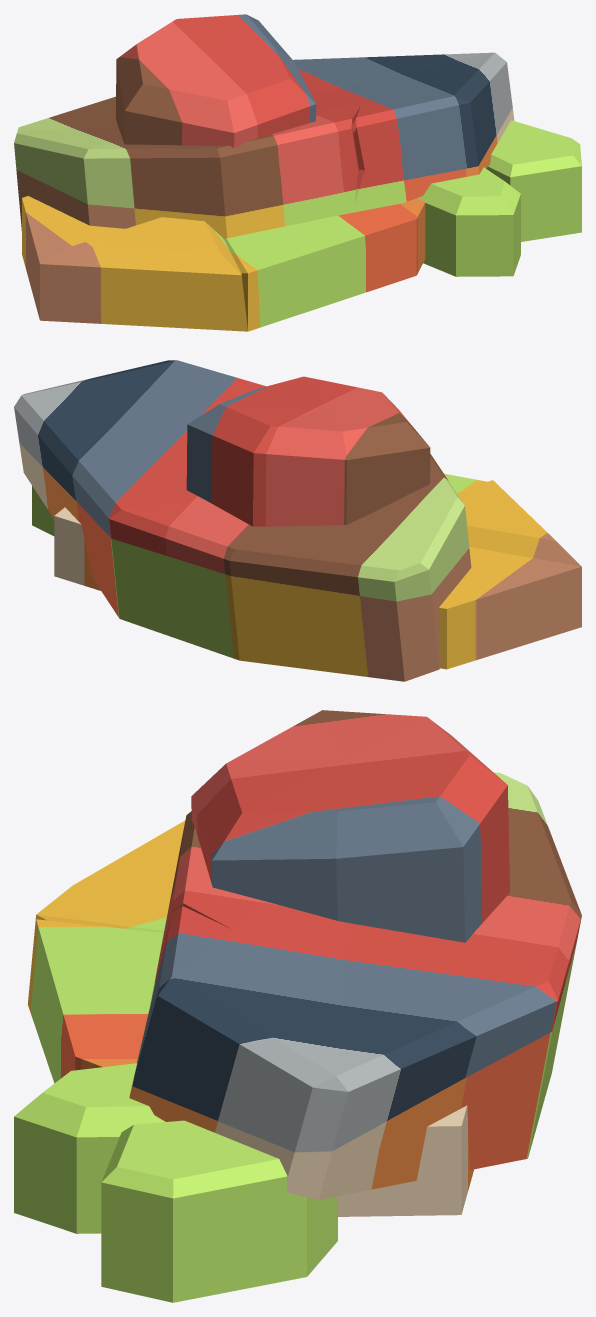
The model's file is rock_2.fbx.
The picture shows the model from 3 angles, top to bottom: view 1: azimuth 30°, elevation 25°; view 2: azimuth 150°, elevation 25°; view 3: azimuth 270°, elevation 25°; orthographic projection. The views are drawn at different scales.
Parts seen in each view (by area): view 1: rock_2; view 2: rock_2; view 3: rock_2.
Part boxes in pixels (x1,y1,x2,y2): rock_2: (14, 14, 581, 331); rock_2: (14, 360, 581, 681); rock_2: (14, 710, 581, 1302).
Bounding box in the file's own units: 287 × 106 × 172.
